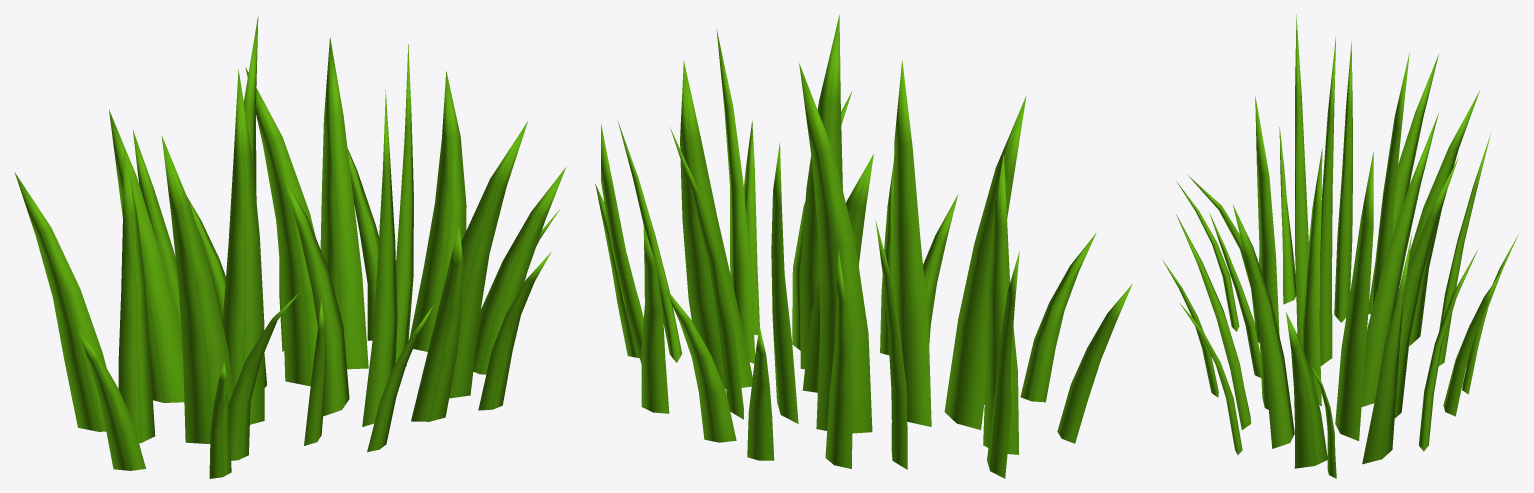
The model's file is GrassShort3.fbx.
3 renders of one model, left to right at view 1: azimuth 30°, elevation 25°; view 2: azimuth 150°, elevation 25°; view 3: azimuth 270°, elevation 25°, orthographic. The views are drawn at different scales.
Parts seen in each view (by area): view 1: Mesh; view 2: Mesh; view 3: Mesh.
Part boxes in pixels (box(x1,y1,x2,y2)): Mesh: box(14, 15, 566, 478); Mesh: box(595, 14, 1132, 478); Mesh: box(1162, 15, 1517, 478).
Bounding box in the file's own units: 143 × 98.43 × 95.29.
